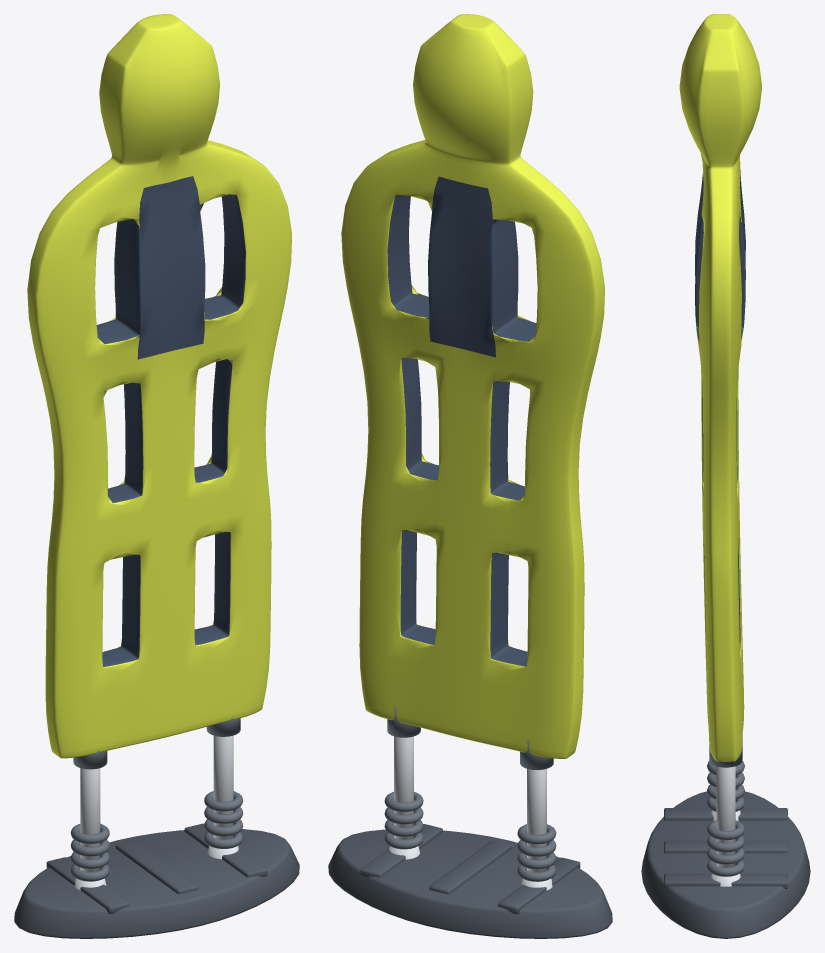
The model's file is training_mannequin.glb.
3 views of the same model, side by side, from view 1: azimuth 30°, elevation 25°; view 2: azimuth 150°, elevation 25°; view 3: azimuth 270°, elevation 25° (orthographic). The views are drawn at different scales.
Parts seen in each view (by area): view 1: TrainingMannequin; view 2: TrainingMannequin; view 3: TrainingMannequin.
Part boxes in pixels (x1,y1,x2,y2): TrainingMannequin: (14,14,299,938); TrainingMannequin: (328,14,612,938); TrainingMannequin: (641,14,810,938).
Size of the model in its own units: 0.5998 by 1.82 by 0.3272.
